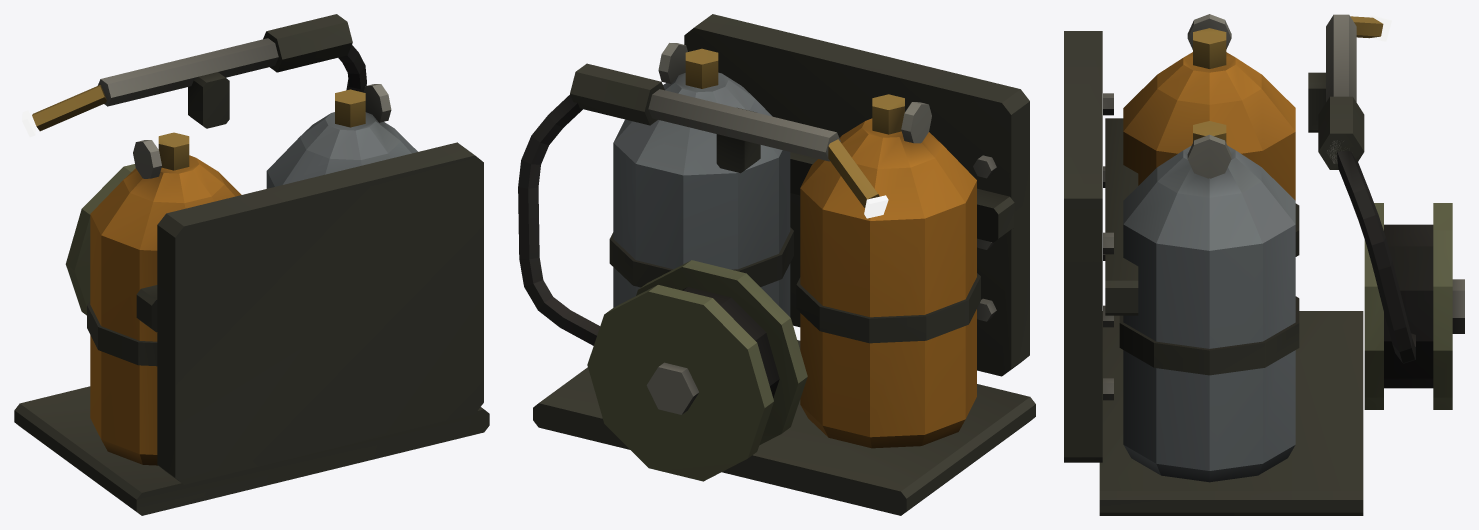
The model's file is waist-kit.glb.
3 views of the same model, side by side, from view 1: azimuth 30°, elevation 25°; view 2: azimuth 150°, elevation 25°; view 3: azimuth 270°, elevation 25° (orthographic). The views are drawn at different scales.
Parts seen in each view (by area): view 1: Body; view 2: Body; view 3: Body.
Boxes of the visible parts, x1,y1,x2,y2 form: Body: [14, 14, 489, 515]; Body: [518, 14, 1035, 515]; Body: [1064, 14, 1464, 515].
Size of the model in its own units: 0.8084 by 0.7364 by 0.73.
